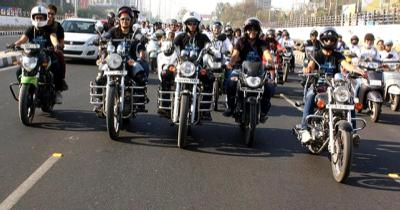With Helmet: (316, 25, 340, 51), (179, 9, 203, 34), (113, 4, 138, 28), (241, 15, 263, 39), (27, 4, 49, 24), (383, 35, 397, 52), (362, 31, 376, 46), (280, 27, 291, 41)
